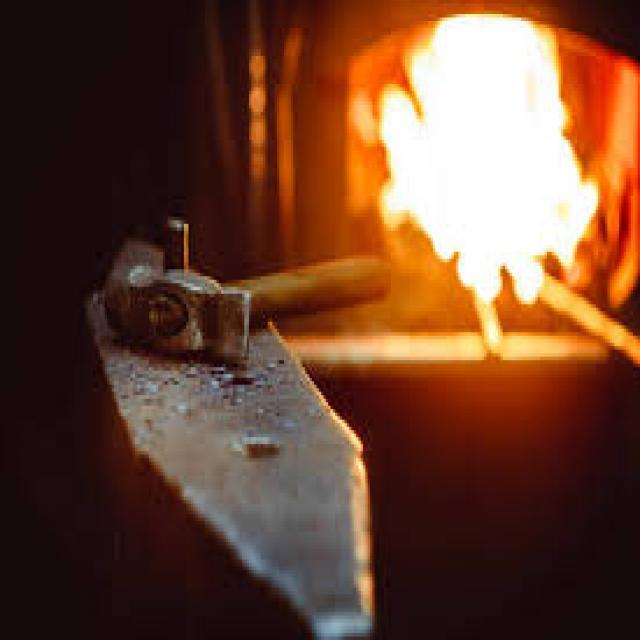hammer: (86, 238, 419, 360)
